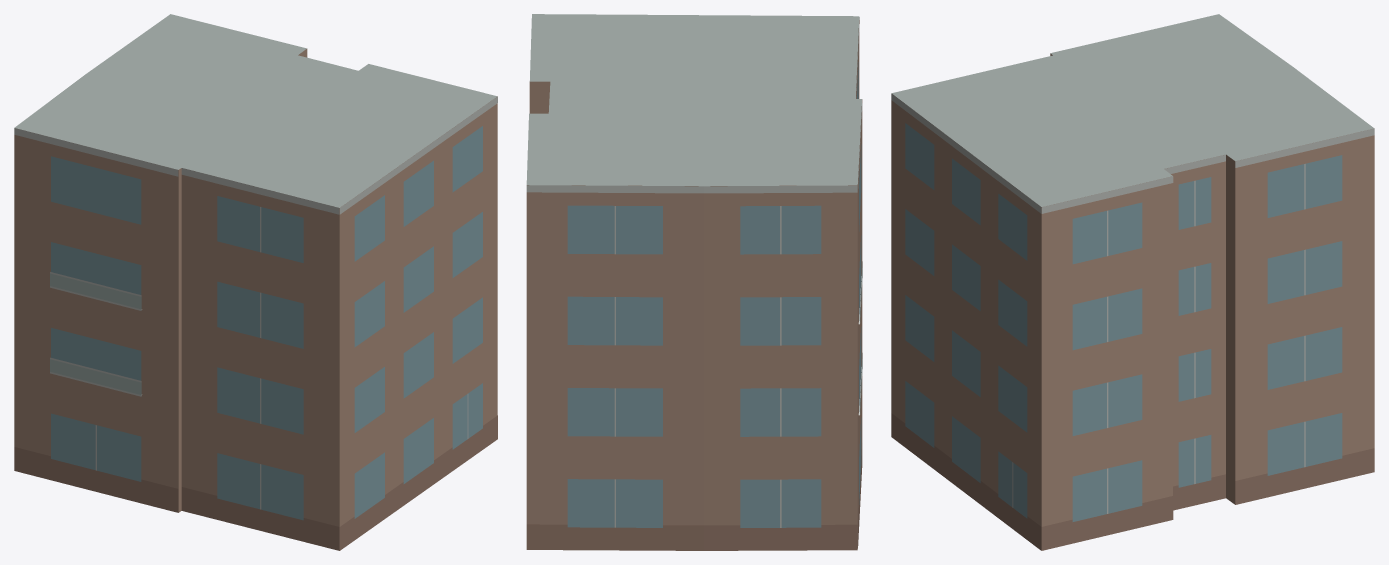
The model's file is survey-upis-32723284.glb.
3 renders of one model, left to right at view 1: azimuth 30°, elevation 25°; view 2: azimuth 150°, elevation 25°; view 3: azimuth 270°, elevation 25°, orthographic. The views are drawn at different scales.
Visible parts, largest first — view 1: survey-upis-32723284.tmp; view 2: survey-upis-32723284.tmp; view 3: survey-upis-32723284.tmp.
Part boxes in pixels (x1=…): survey-upis-32723284.tmp: x1=14, y1=14, x2=497, y2=550; survey-upis-32723284.tmp: x1=526, y1=14, x2=862, y2=550; survey-upis-32723284.tmp: x1=891, y1=14, x2=1374, y2=550.
Size of the model in its own units: 14.71 by 12.2 by 15.55.
